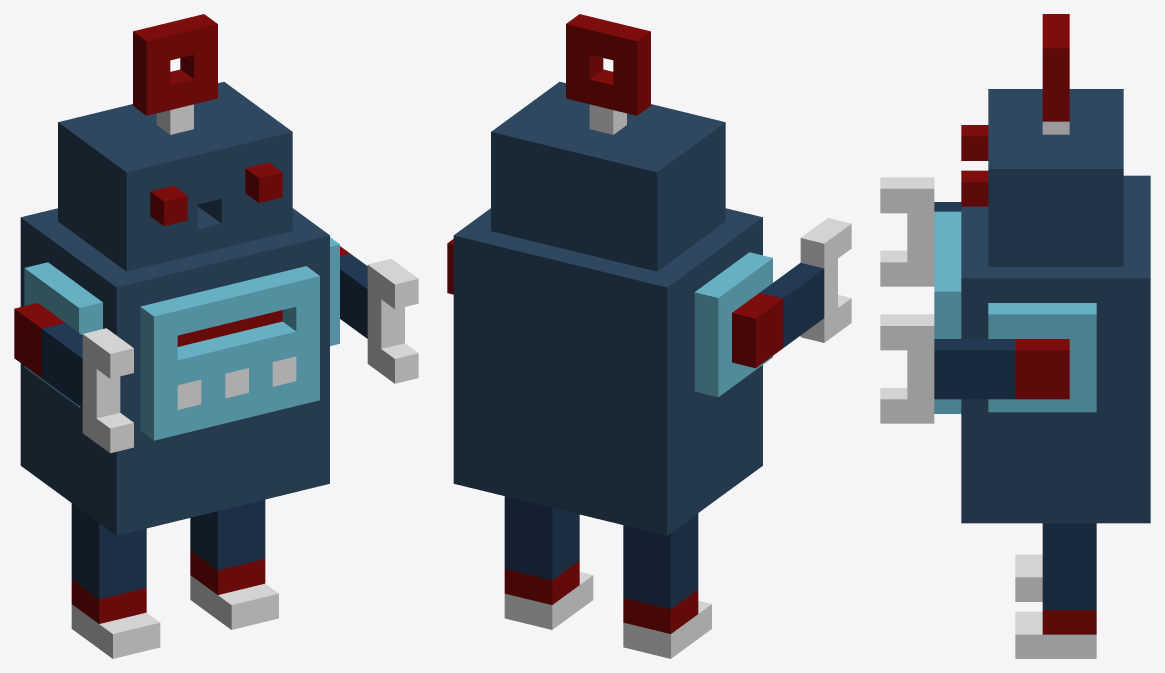
File: ToyRobot.obj
3 renders of one model, left to right at view 1: azimuth 30°, elevation 25°; view 2: azimuth 150°, elevation 25°; view 3: azimuth 270°, elevation 25°, orthographic.
Size of the model in its own units: 1.3 by 2.4 by 1.
1 material, 1 textured.
